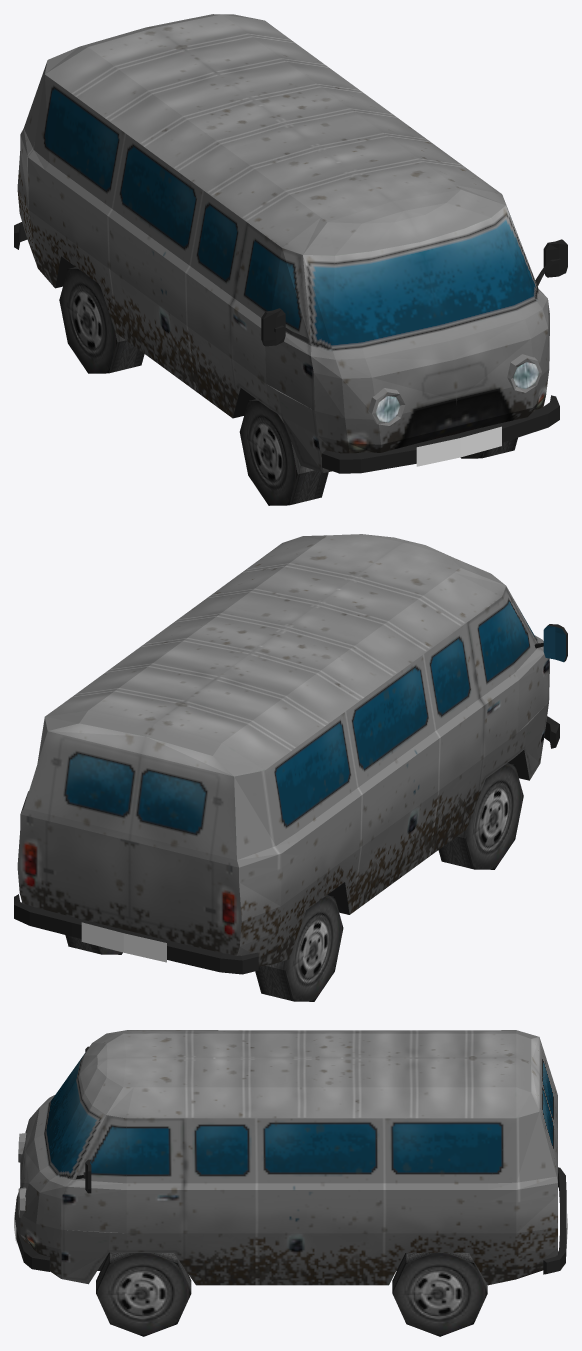
File: uaz452.gltf
3 views of the same model, one above another, from view 1: azimuth 30°, elevation 25°; view 2: azimuth 150°, elevation 25°; view 3: azimuth 270°, elevation 25° (orthographic). The views are drawn at different scales.
Parts seen in each view (by area): view 1: Body, Wheel_FR, Wheel_RR; view 2: Body, Wheel_RR, Wheel_FR; view 3: Body, Wheel_FL, Wheel_RL.
Boxes of the visible parts, bbox=[...] form: Body: bbox=[14, 14, 567, 473]; Wheel_FR: bbox=[239, 399, 328, 505]; Wheel_RR: bbox=[59, 267, 144, 373]; Body: bbox=[14, 534, 567, 974]; Wheel_RR: bbox=[255, 895, 343, 1001]; Wheel_FR: bbox=[438, 763, 523, 869]; Body: bbox=[14, 1030, 567, 1285]; Wheel_FL: bbox=[96, 1252, 191, 1336]; Wheel_RL: bbox=[392, 1253, 487, 1336].
Size of the model in its own units: 2.28 by 2.03 by 4.37.
4 materials, 3 textured.
